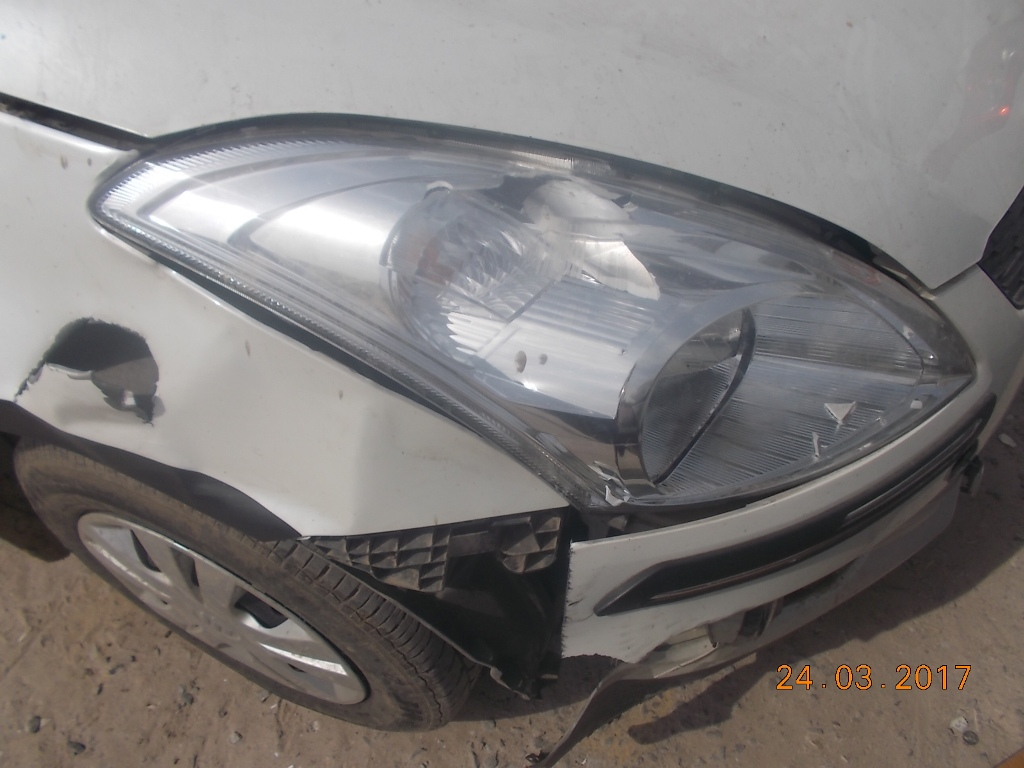Dislocation: (342, 474, 629, 690)
Tear: (27, 287, 177, 421)
